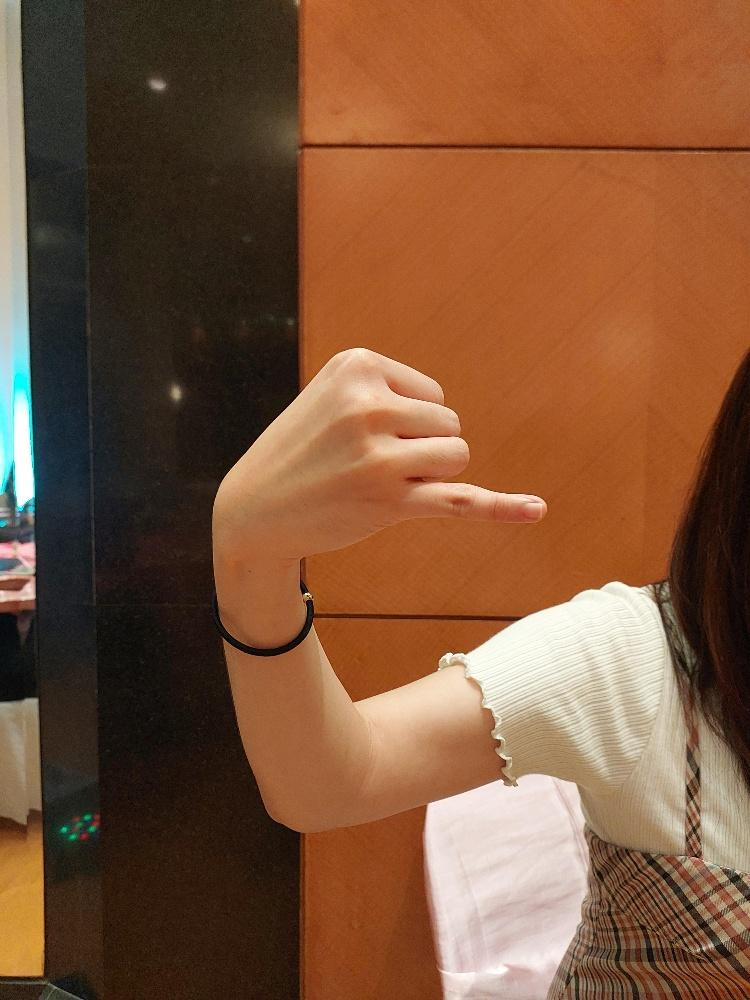j: (208, 345, 548, 564)
